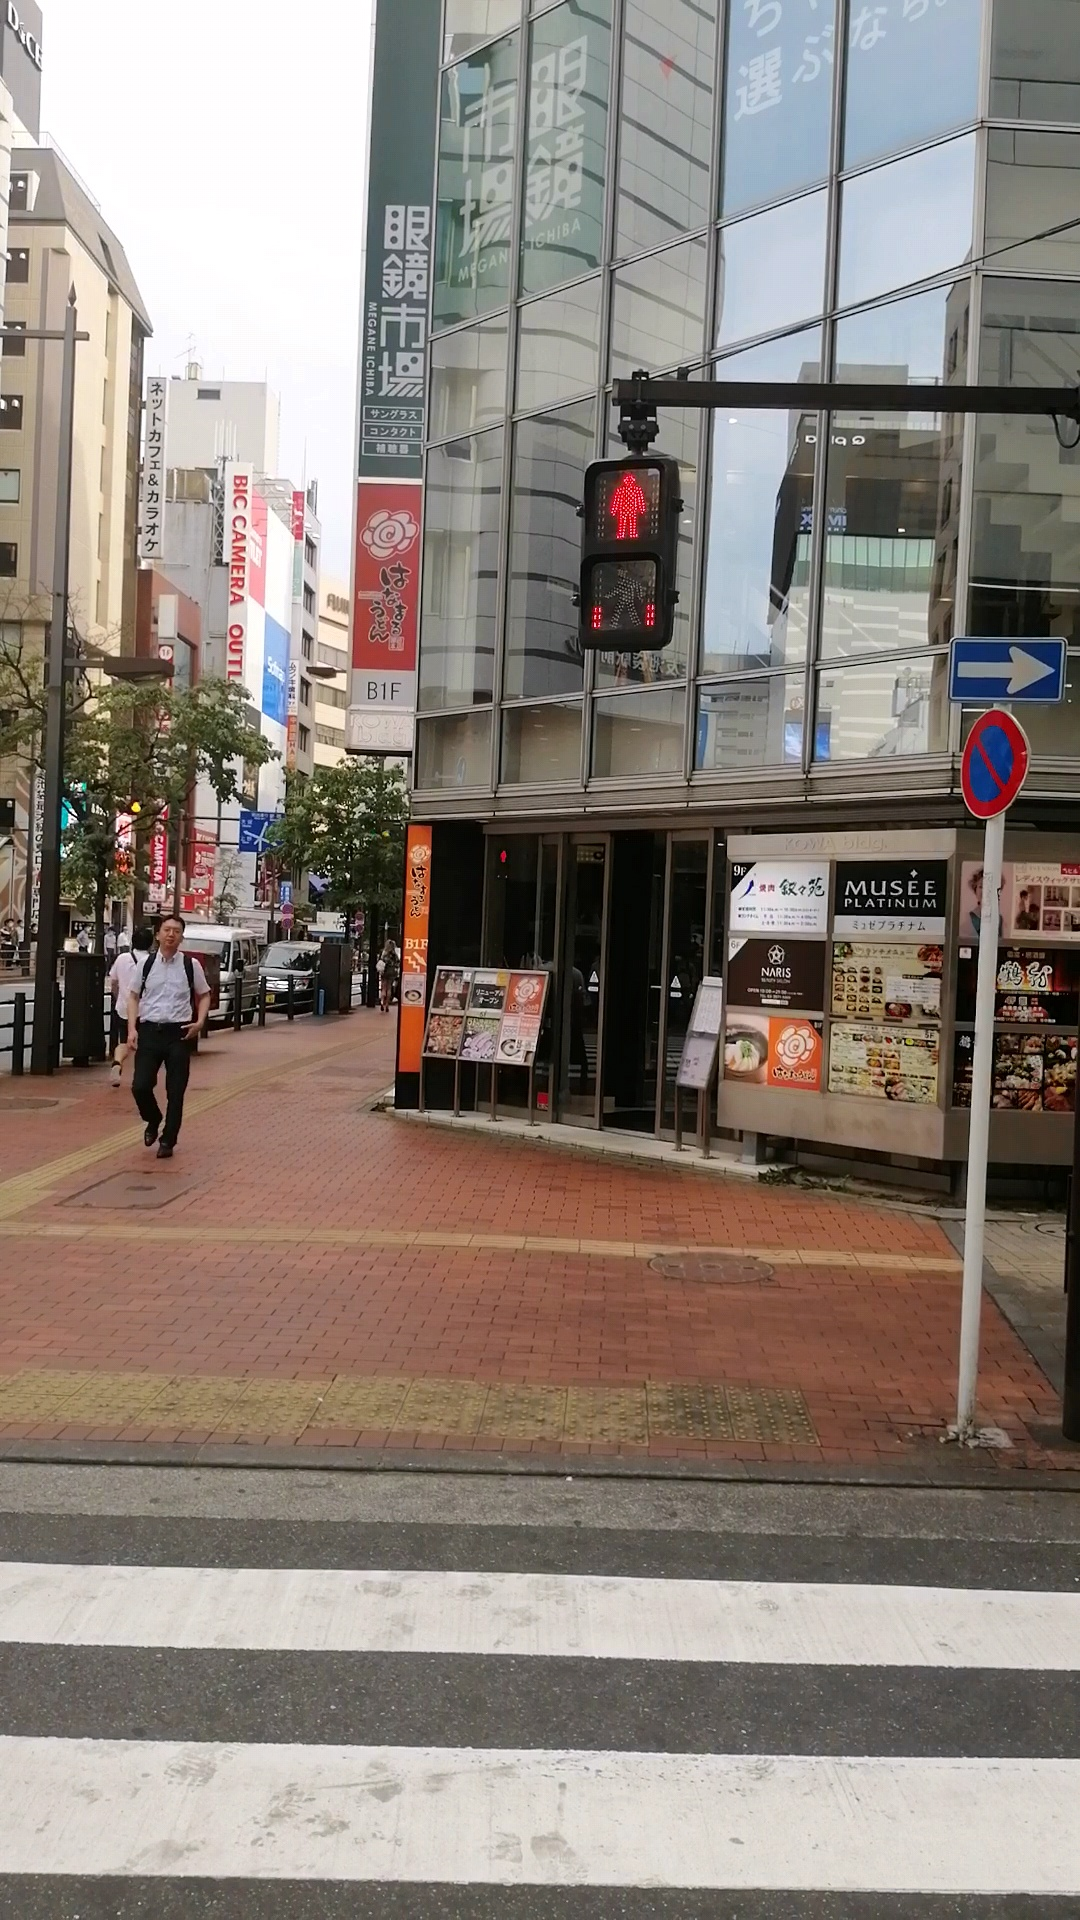red: (583, 462, 676, 653)
